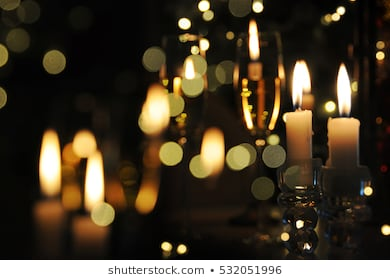Fire: (36, 133, 62, 191), (140, 86, 171, 130), (199, 127, 226, 175), (86, 152, 105, 209), (293, 61, 314, 110), (335, 63, 353, 116), (246, 20, 263, 62), (72, 129, 96, 156), (185, 57, 195, 81), (177, 16, 192, 29), (198, 37, 211, 50)
